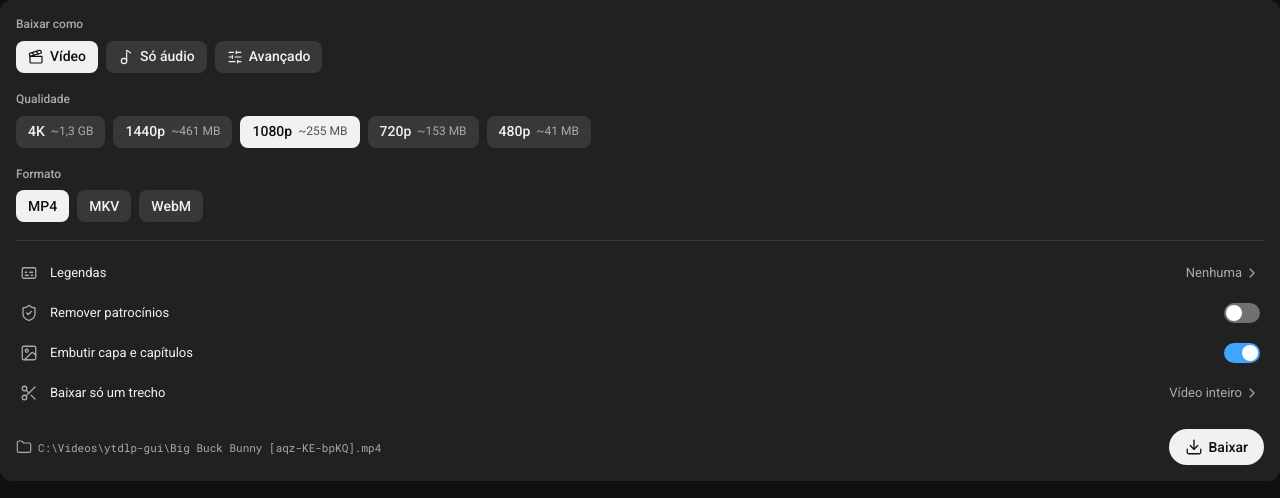
Test: mode › the audio quality is offered for lossy formats only
Click the button "Só áudio" at (156, 57), box [106,41,207,73]
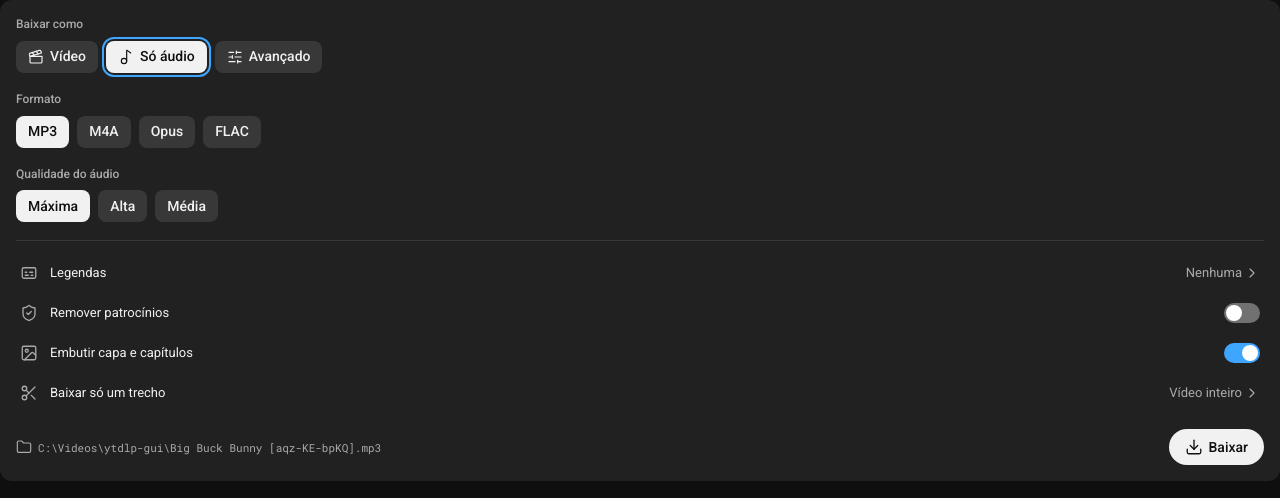
Expected: the text "Qualidade do áudio" is shown, [16,167,119,181]
Click the button "FLAC" at (232, 132), box [203,116,261,148]
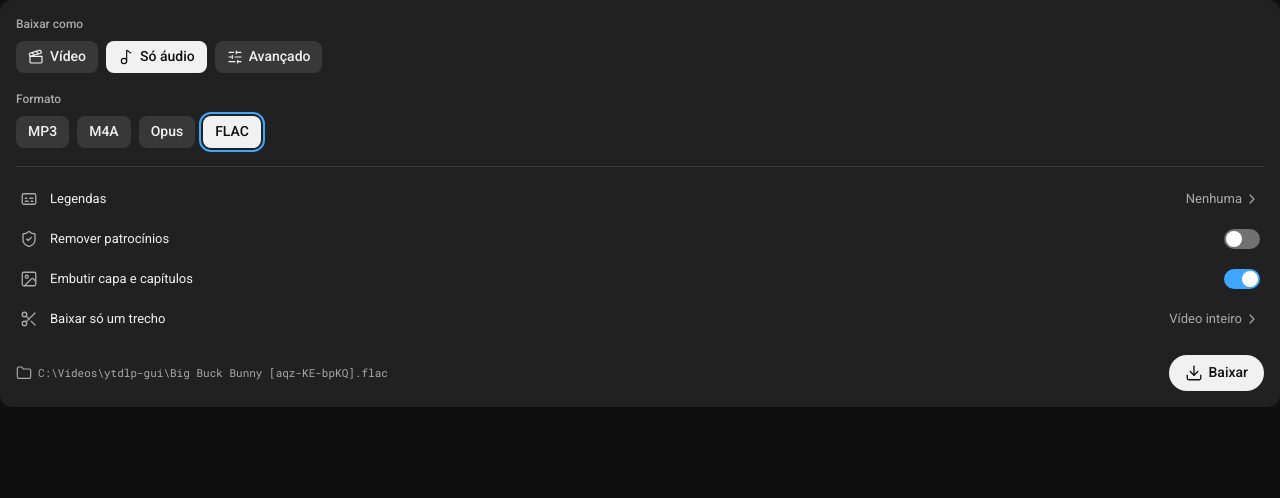
Expected: the text "Qualidade do áudio" is gone
